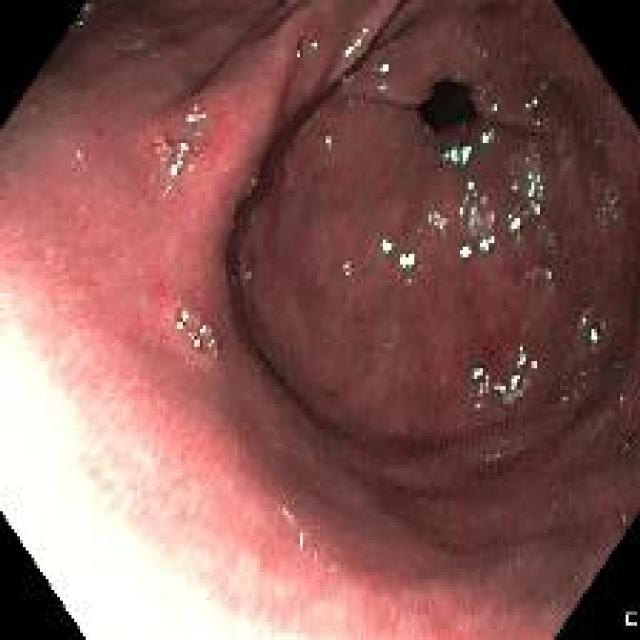bubbles: (164, 99, 218, 158), (191, 319, 222, 359), (171, 301, 195, 334), (292, 524, 310, 552), (609, 188, 623, 211), (539, 266, 556, 284)
contrast: (420, 79, 482, 127)
saturation: (112, 405, 376, 639), (0, 276, 111, 638)
specularity: (525, 167, 545, 218), (584, 324, 602, 347), (478, 234, 497, 254), (503, 213, 522, 232), (441, 147, 459, 167), (353, 25, 370, 45), (459, 144, 473, 166), (379, 235, 395, 254), (165, 160, 180, 180), (398, 253, 419, 267), (459, 242, 472, 261), (510, 370, 520, 392), (186, 112, 206, 123), (322, 132, 334, 150), (480, 129, 493, 145), (178, 138, 190, 155), (516, 346, 526, 366), (377, 60, 390, 75), (465, 177, 476, 194), (342, 259, 352, 277), (178, 308, 190, 322), (472, 366, 483, 381), (294, 48, 303, 65), (343, 46, 355, 58), (174, 321, 185, 334), (497, 383, 509, 394), (310, 39, 320, 52), (201, 322, 209, 338), (175, 155, 184, 169), (534, 119, 543, 133), (298, 532, 305, 549), (192, 335, 201, 348), (530, 360, 538, 373), (489, 102, 499, 112), (532, 93, 538, 107)
